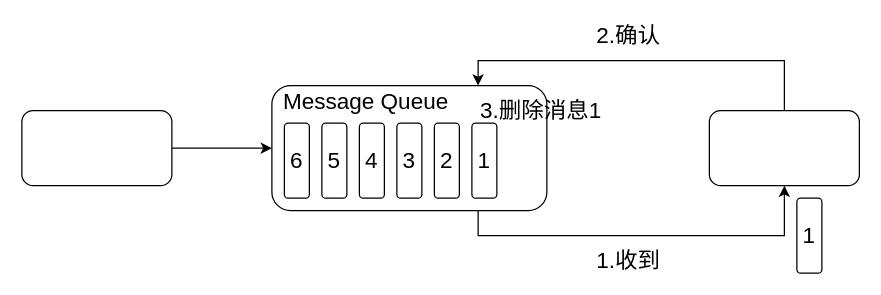
Image size: 881x295. Some labels were removed from this diagram. The shapes that lost their labels are listed below. From the top down, each one's centre as x and y in pixels, then its label:
point (96, 147): producer
point (783, 147): consumer
